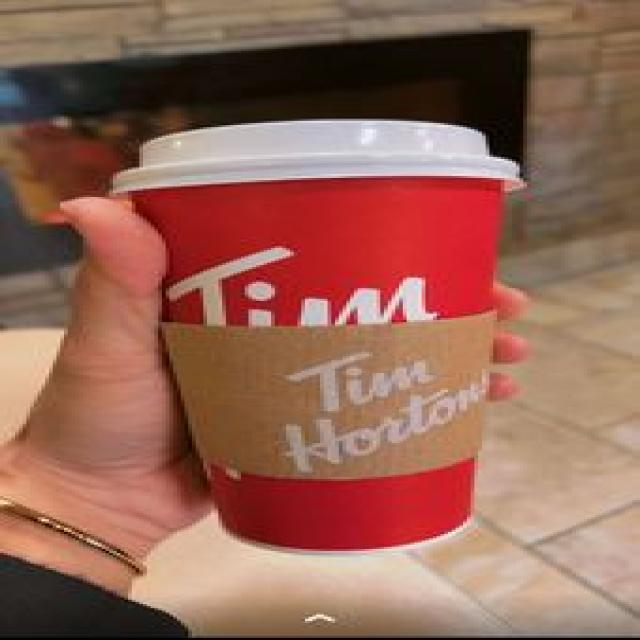timmies: (96, 114, 544, 562)
